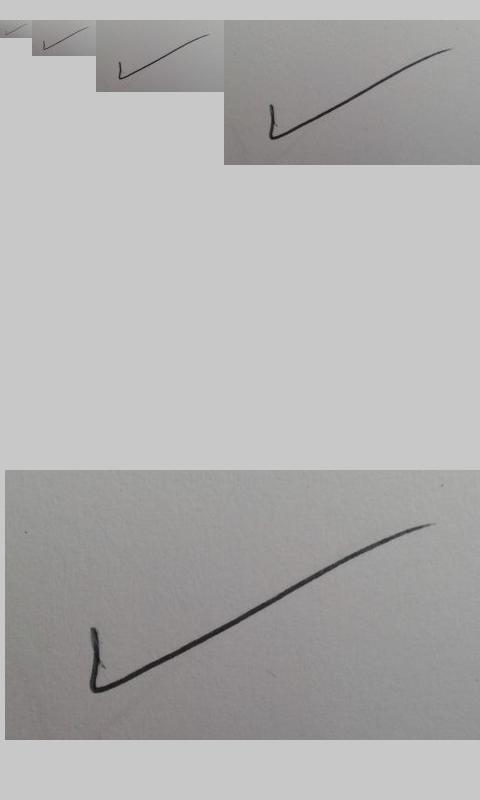check_box: (86, 526, 415, 696), (268, 50, 443, 141), (118, 35, 208, 80), (43, 27, 87, 51), (5, 24, 25, 36)
